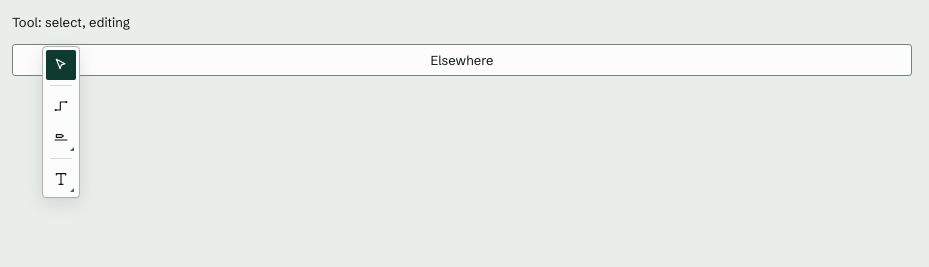
Test case: ToolRail › opens a group's flyout beside its button from the corner mark, and closes it on a choice
The width and height of the screenshot is (929, 267).
Click the 1st button with class "rail-open" at [70, 148], box top-left (65, 142), bottom-right (76, 153)
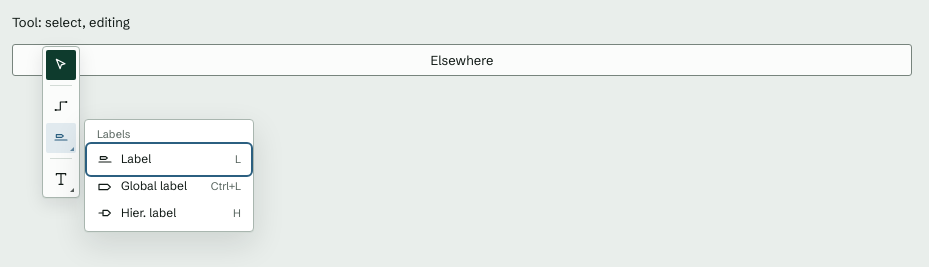
expect the menu "Labels Label L Global label Ctrl+L Hier. label H" is shown: met, box top-left (84, 119), bottom-right (254, 232)
Click the menu item "Global label Ctrl+L" at [169, 187], box top-left (89, 173), bottom-right (249, 200)
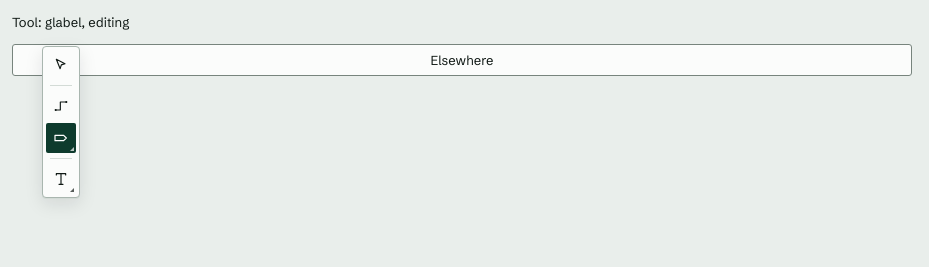
expect the text "Tool: glabel, editing" is shown: met, box top-left (12, 14), bottom-right (129, 30)
